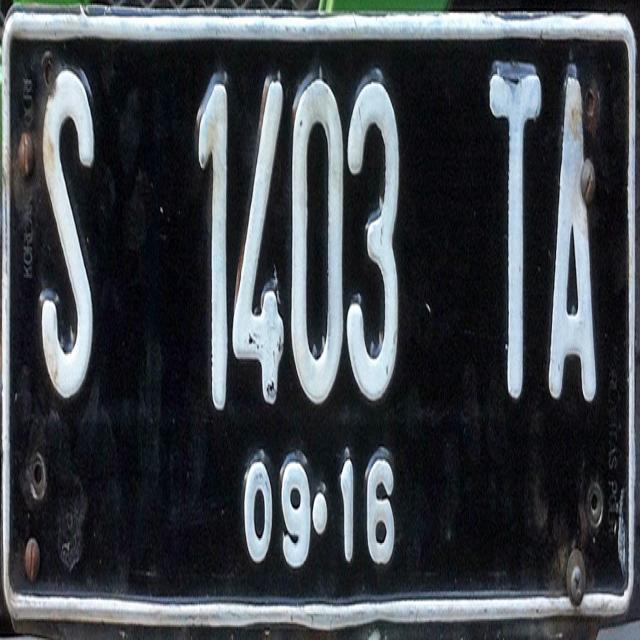0: (288, 65, 346, 416)
1: (190, 62, 230, 414)
3: (346, 65, 402, 422)
4: (231, 63, 288, 416)
A: (544, 56, 598, 410)
S: (34, 56, 109, 426)
T: (486, 57, 544, 410)
